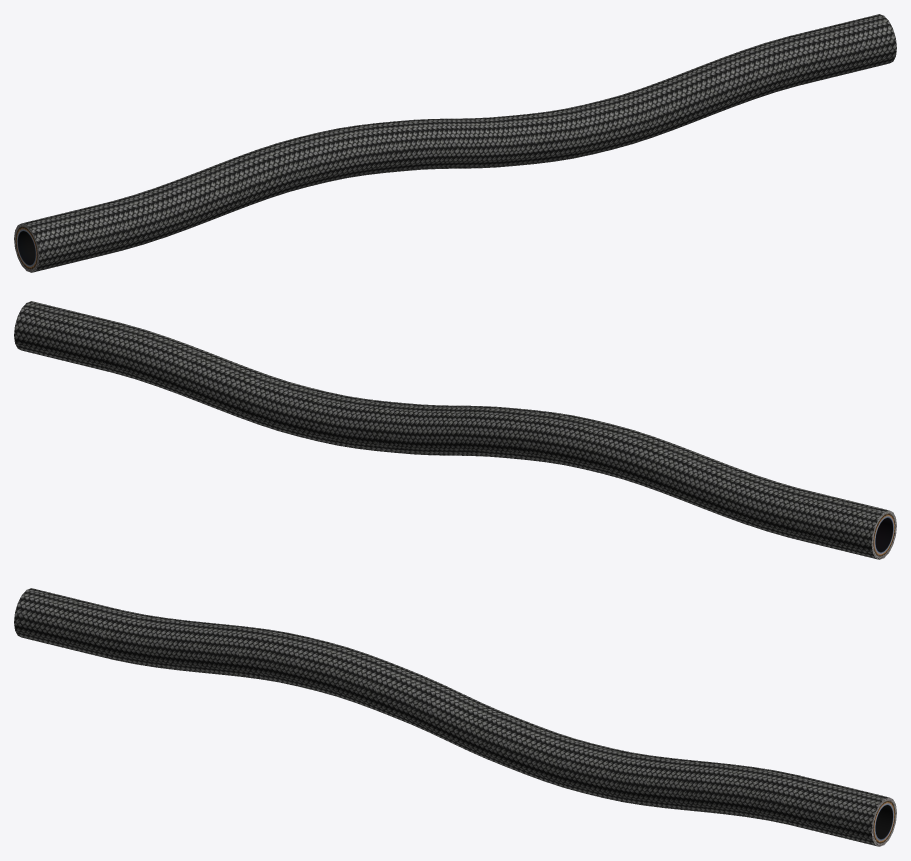
The picture shows the model from 3 angles, top to bottom: view 1: azimuth 30°, elevation 25°; view 2: azimuth 150°, elevation 25°; view 3: azimuth 330°, elevation 25°; orthographic projection.
Parts seen in each view (by area): view 1: Aramid_Braid-08; view 2: Aramid_Braid-08; view 3: Aramid_Braid-08.
Boxes of the visible parts, bbox=[...] form: Aramid_Braid-08: bbox=[14, 14, 896, 272]; Aramid_Braid-08: bbox=[14, 301, 896, 559]; Aramid_Braid-08: bbox=[14, 588, 896, 846].
Bounding box in the file's own units: 0.3074 × 0.0284 × 0.0157.
2 materials, 2 textured.
